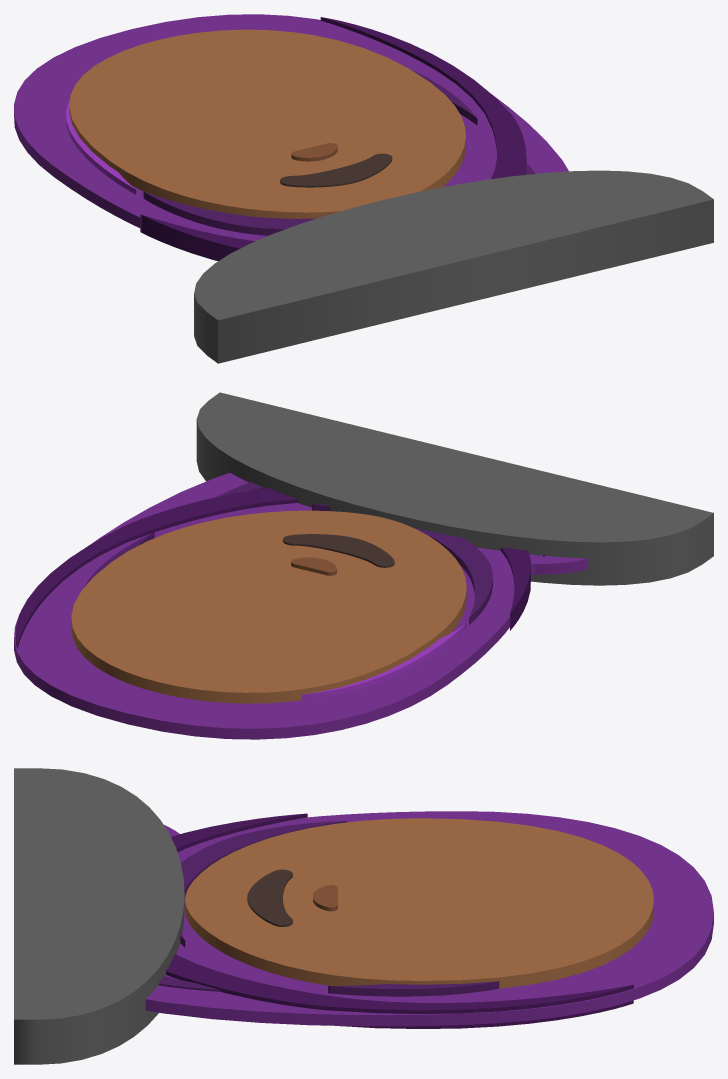
Rendered from emoji_u1f9d5_1f3fe.glb.
3 views of the same model, one above another, from view 1: azimuth 30°, elevation 25°; view 2: azimuth 150°, elevation 25°; view 3: azimuth 270°, elevation 25° (orthographic). The views are drawn at different scales.
Parts seen in each view (by area): view 1: emoji_u1f9d5_1f3fe; view 2: emoji_u1f9d5_1f3fe; view 3: emoji_u1f9d5_1f3fe.
Part boxes in pixels (x1,y1,x2,y2): emoji_u1f9d5_1f3fe: (14, 14, 713, 363); emoji_u1f9d5_1f3fe: (14, 392, 713, 739); emoji_u1f9d5_1f3fe: (14, 768, 713, 1064).
Bounding box in the file's own units: 0.0287 × 0.0024 × 0.0338.
